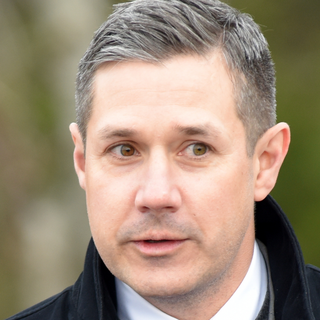eye: (174, 136, 221, 161), (99, 139, 146, 163)
